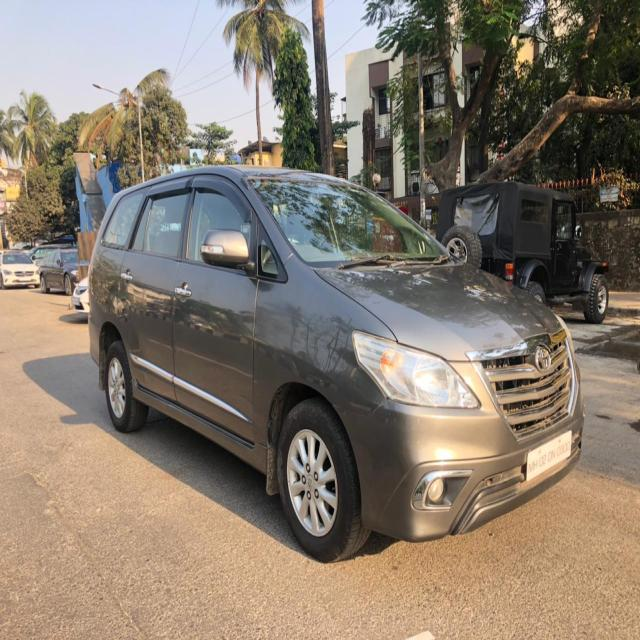light_vehicle: (0, 248, 40, 289)
